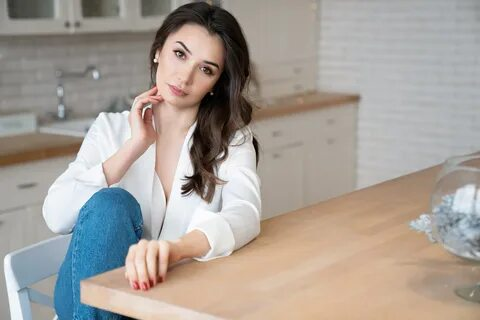awake: (40, 1, 262, 320)
